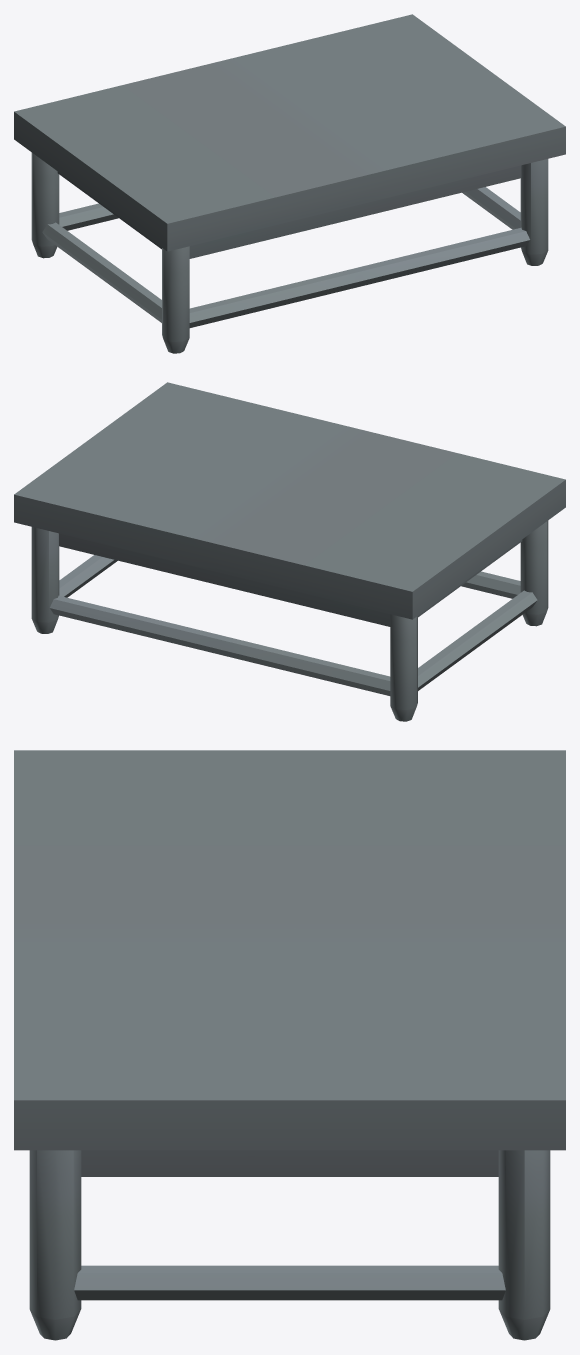
File: kkr.kitchentable_a_large.glb
3 renders of one model, top to bottom at view 1: azimuth 30°, elevation 25°; view 2: azimuth 150°, elevation 25°; view 3: azimuth 270°, elevation 25°, orthographic. The views are drawn at different scales.
Visible parts, largest first — view 1: kitchentable_A_large; view 2: kitchentable_A_large; view 3: kitchentable_A_large.
Part boxes in pixels (box(x1,y1,x2,y2)): kitchentable_A_large: box(14, 14, 565, 353); kitchentable_A_large: box(14, 382, 565, 721); kitchentable_A_large: box(14, 750, 565, 1340).
Size of the model in its own units: 2.24 by 0.7479 by 1.49.
1 material, 1 textured.
